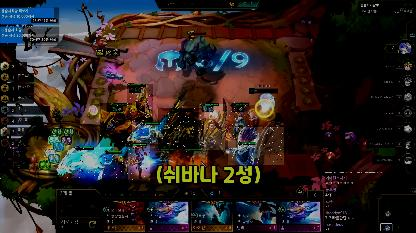1_aurelionsol: (94, 147, 130, 179)
2_aurelionsol: (228, 127, 284, 165), (56, 146, 102, 178), (128, 122, 166, 144)
2_shyvana: (128, 144, 150, 182)
3_bard: (100, 103, 132, 147)
3_joy: (199, 104, 225, 150)
3_soraka: (228, 102, 250, 140)
3_terra: (158, 108, 204, 148)
3_yasuo: (127, 84, 153, 122)
